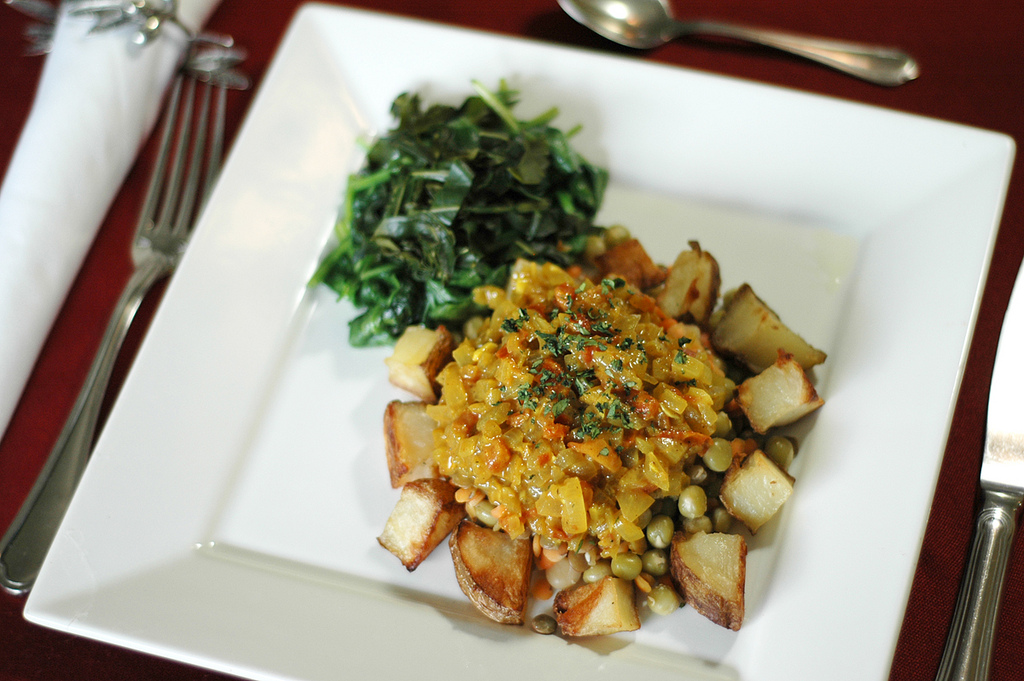boiled peas: (606, 523, 688, 609), (668, 482, 713, 523), (769, 433, 803, 478), (705, 437, 733, 475)
boiled potatoes: (385, 322, 448, 581), (434, 526, 532, 620), (720, 288, 817, 364), (711, 447, 792, 533), (668, 534, 745, 615), (742, 358, 817, 432), (545, 584, 636, 642), (664, 245, 717, 320)
chopped lettuce: (328, 99, 583, 325)
